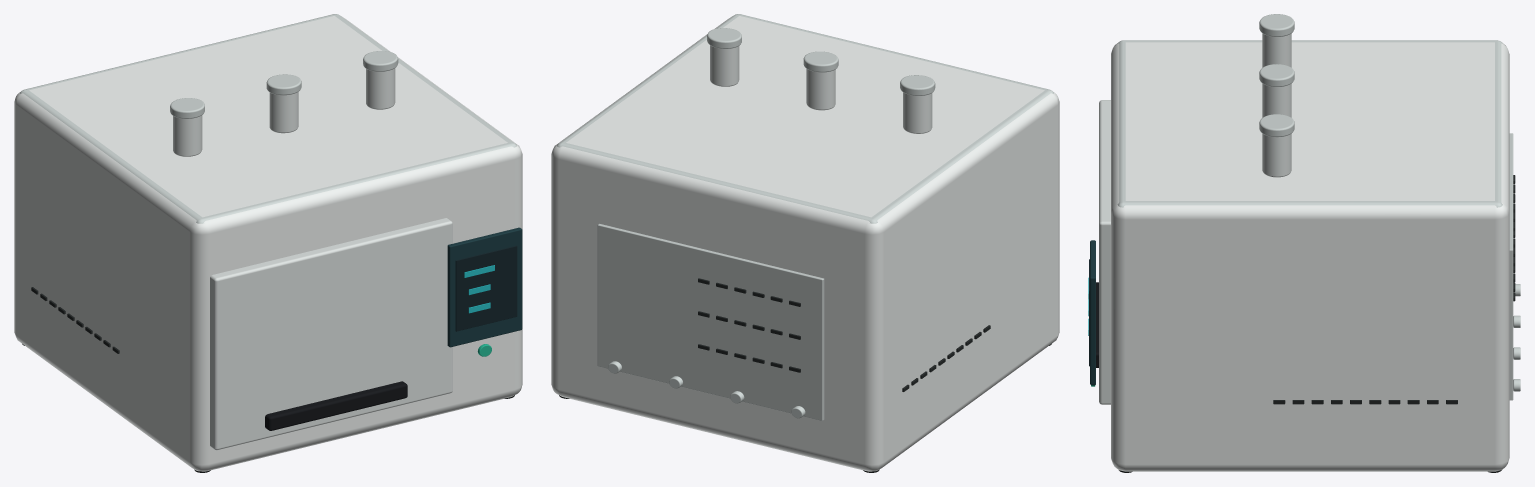
The model's file is gas-chromatograph.glb.
3 renders of one model, left to right at view 1: azimuth 30°, elevation 25°; view 2: azimuth 150°, elevation 25°; view 3: azimuth 270°, elevation 25°, orthographic. The views are drawn at different scales.
Visible parts, largest first — view 1: Runtime batch - Cool white instrument polymer, Runtime batch - Light bead-blasted aluminum, Runtime batch - Brushed analytical silver, Runtime batch - Smoked instrument display glass, Runtime batch - Smoked control display, Runtime batch - Matte black coated handle, Runtime batch - Light instrument gray powder coat; view 2: Runtime batch - Cool white instrument polymer, Runtime batch - Light instrument gray powder coat, Runtime batch - Brushed analytical silver, Runtime batch - Light bead-blasted aluminum, Runtime batch - Casework seam shadow; view 3: Runtime batch - Cool white instrument polymer, Runtime batch - Light bead-blasted aluminum, Runtime batch - Brushed analytical silver, Runtime batch - Light instrument gray powder coat, Runtime batch - Casework seam shadow, Runtime batch - Smoked control display.
Boxes of the visible parts, box(x1,y1,x2,y2) form: Runtime batch - Cool white instrument polymer: box(14, 16, 522, 471); Runtime batch - Light bead-blasted aluminum: box(173, 68, 452, 450); Runtime batch - Brushed analytical silver: box(20, 14, 516, 223); Runtime batch - Smoked instrument display glass: box(455, 245, 517, 331); Runtime batch - Smoked control display: box(447, 227, 522, 347); Runtime batch - Matte black coated handle: box(265, 381, 407, 430); Runtime batch - Light instrument gray powder coat: box(170, 51, 398, 118); Runtime batch - Cool white instrument polymer: box(551, 16, 1059, 471); Runtime batch - Light instrument gray powder coat: box(597, 28, 935, 420); Runtime batch - Brushed analytical silver: box(557, 14, 1053, 418); Runtime batch - Light bead-blasted aluminum: box(710, 45, 932, 133); Runtime batch - Casework seam shadow: box(698, 278, 990, 391); Runtime batch - Cool white instrument polymer: box(1111, 42, 1509, 471); Runtime batch - Light bead-blasted aluminum: box(1099, 33, 1291, 404); Runtime batch - Brushed analytical silver: box(1117, 40, 1520, 391); Runtime batch - Light instrument gray powder coat: box(1259, 14, 1513, 400); Runtime batch - Casework seam shadow: box(1273, 175, 1515, 404); Runtime batch - Smoked control display: box(1090, 240, 1095, 384).
Bounding box in the file's own units: 0.515 × 0.44 × 0.54.
